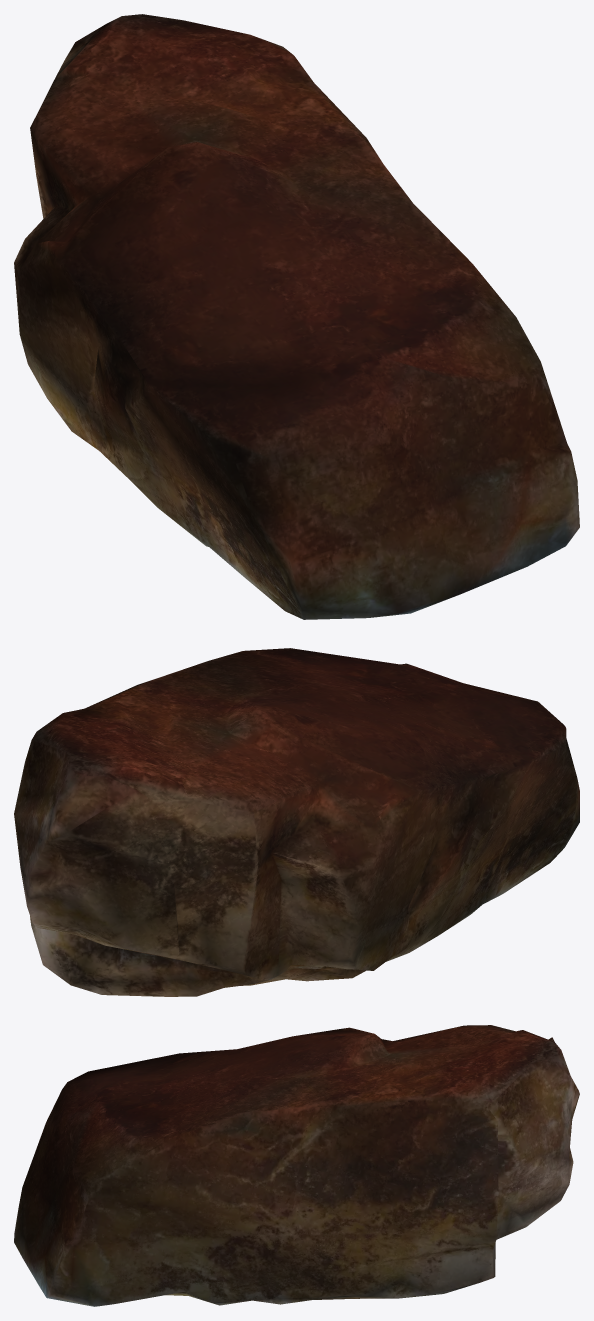
Rendered from rock_07.glb.
The picture shows the model from 3 angles, top to bottom: view 1: azimuth 30°, elevation 25°; view 2: azimuth 150°, elevation 25°; view 3: azimuth 270°, elevation 25°; orthographic projection. The views are drawn at different scales.
Parts seen in each view (by area): view 1: rock_07; view 2: rock_07; view 3: rock_07.
Boxes of the visible parts, x1,y1,x2,y2 form: rock_07: [14, 14, 579, 619]; rock_07: [14, 648, 579, 996]; rock_07: [14, 1025, 579, 1306].
Size of the model in its own units: 0.167 by 0.1434 by 0.3194.
1 material, 1 textured.
